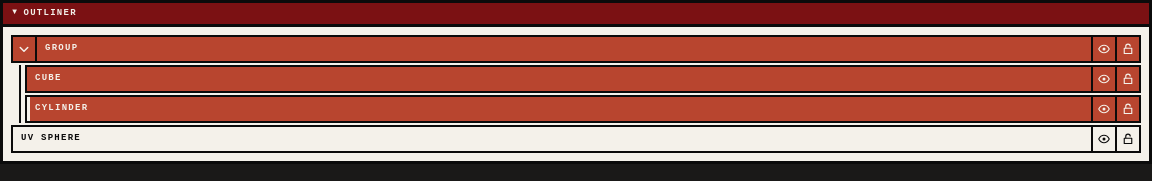
Scenario: Outliner › groups › hides and shows the whole folder from its row
Step 1. Click the button named "Hide GROUP" → {"x": 1103, "y": 49}, box [1091,37,1115,61]
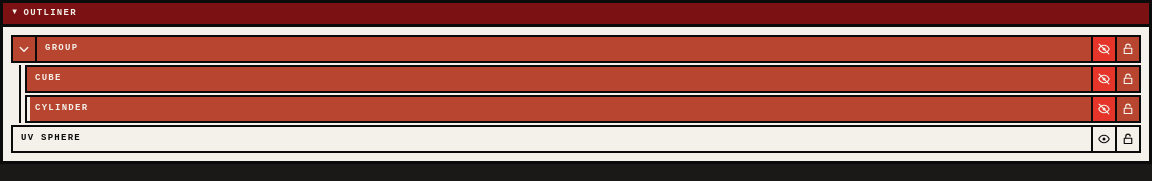
Expected: the button named "Show GROUP" is shown, [1091,37,1115,61]
